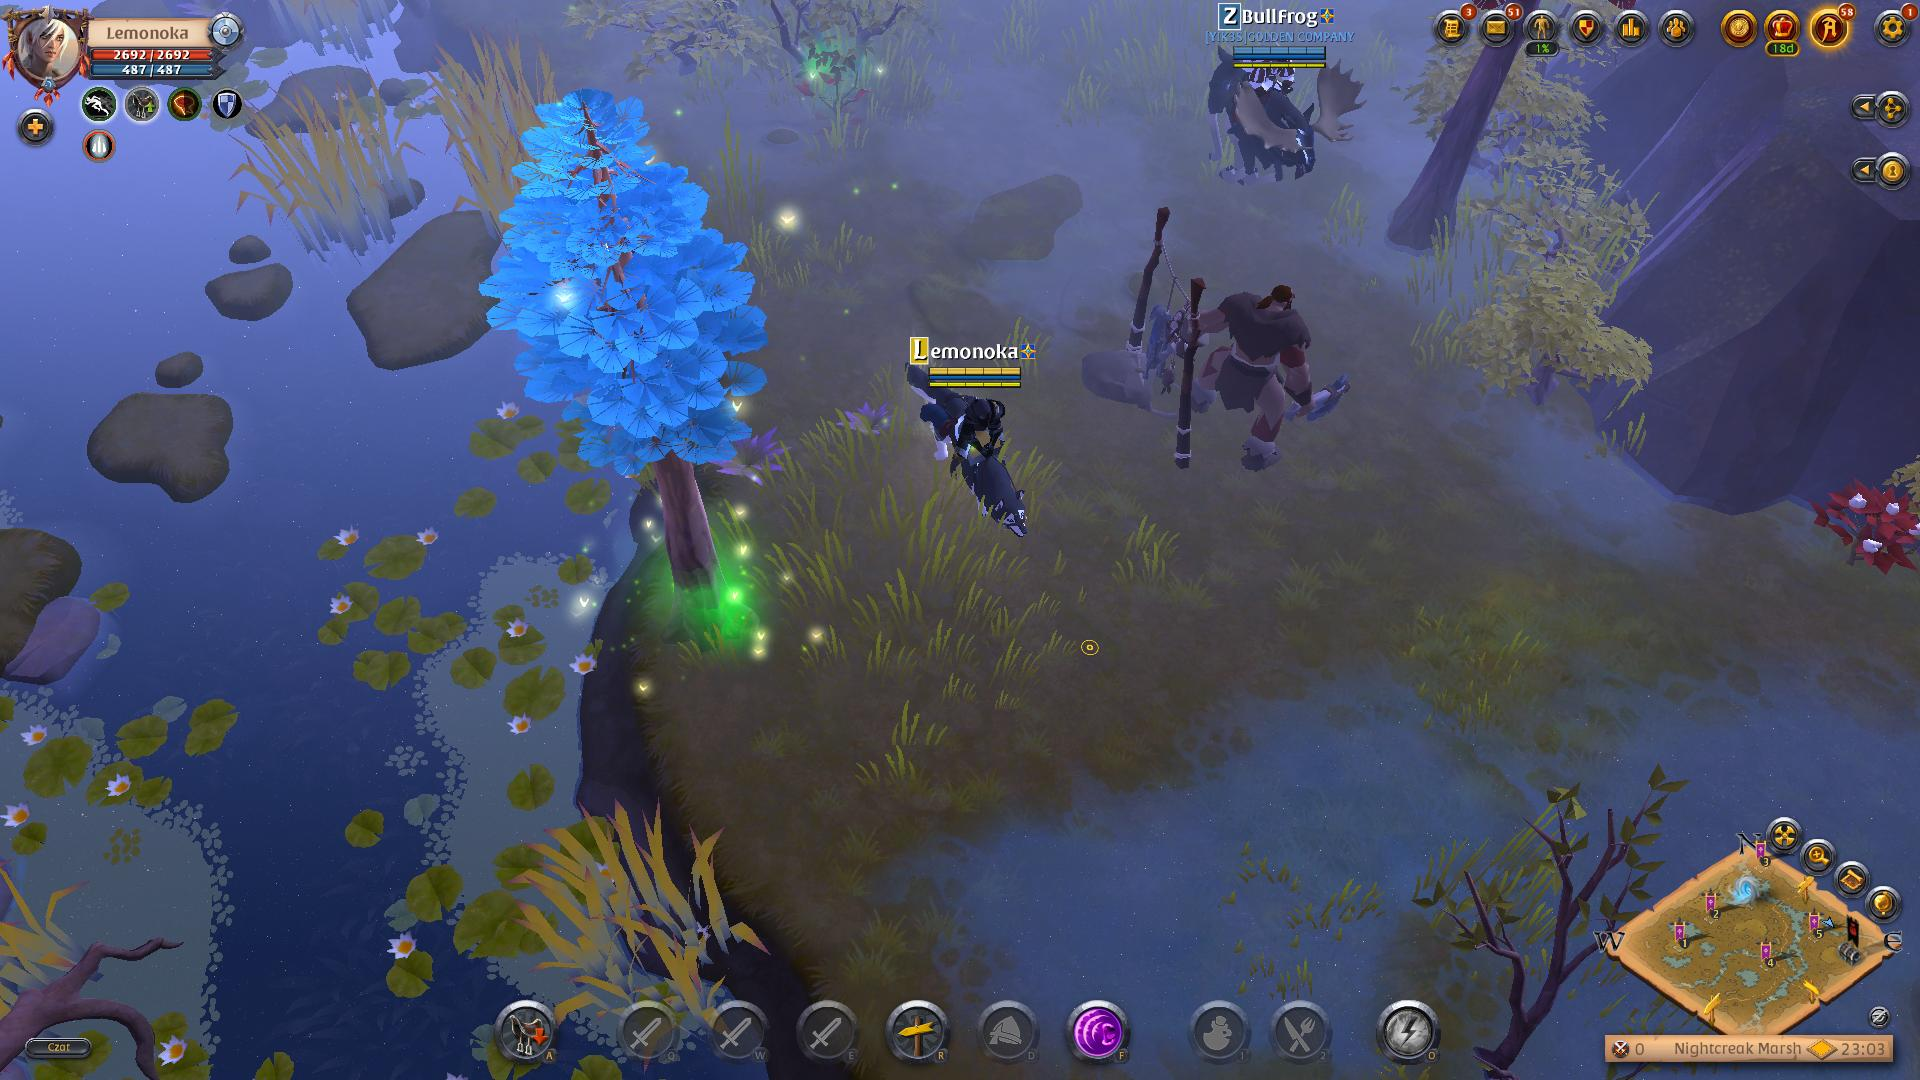fiber tier 5: (1817, 479, 1920, 576)
wood tier 4: (476, 84, 773, 473)
